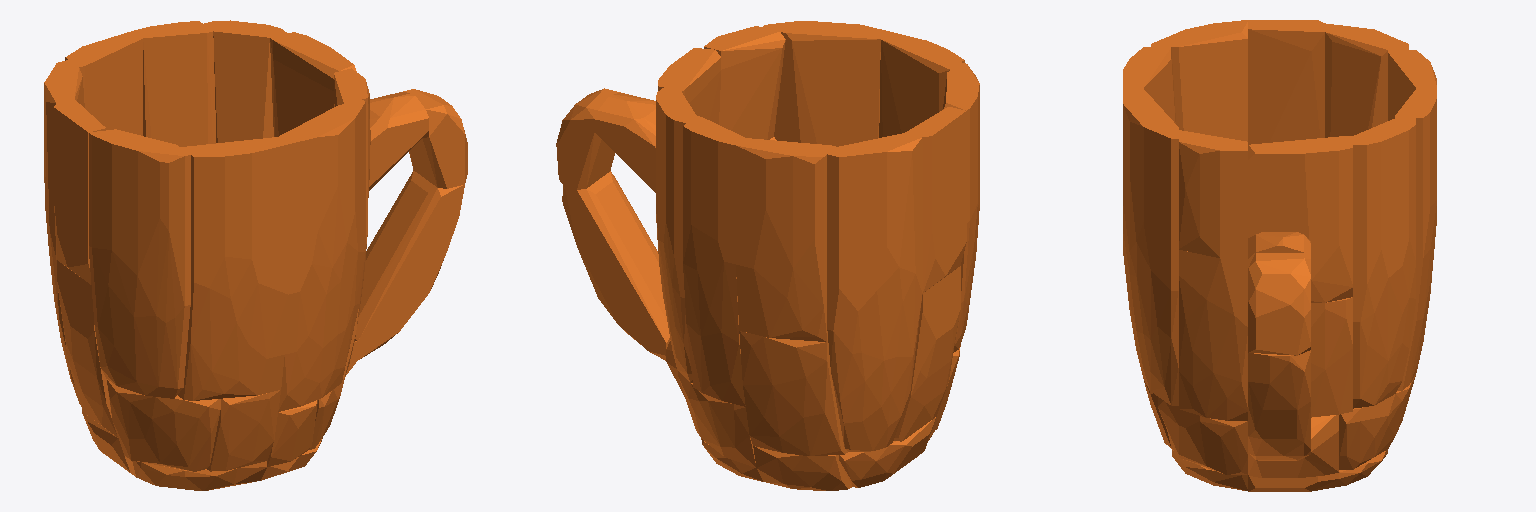
robot.urdf — mug:
<?xml version="1.0"?>
<robot name="mug">
  <link name="base">
    <inertial>
      <mass value="0.3"/>
      <inertia ixx="5e-4" ixy="0" ixz="0" iyy="5e-4" iyz="0" izz="5e-4"/>
    </inertial>
    <visual>
      <origin xyz="0 0 0" rpy="0 0 0"/>
      <geometry><mesh filename="mug_vhacd.obj"/></geometry>
      <material name="orange"><color rgba="0.9 0.5 0.2 1.0"/></material>
    </visual>
    <collision>
      <origin xyz="0 0 0" rpy="0 0 0"/>
      <geometry><mesh filename="mug_vhacd.obj"/></geometry>
    </collision>
  </link>
</robot>

--- Facts derived from the render (not from the file) ---
Views: 3 orthographic renders of the robot side by side, from view 1: azimuth 30°, elevation 25°; view 2: azimuth 150°, elevation 25°; view 3: azimuth 270°, elevation 25°.
Robot: mug — 1 links, 0 joints (none); root link base; default pose: every joint at zero.
Links seen in each view (by area): view 1: base; view 2: base; view 3: base.
Boxes of the visible links, bbox=[...] form: base: bbox=[44, 20, 467, 490]; base: bbox=[556, 21, 979, 490]; base: bbox=[1123, 20, 1436, 491].
Size in the robot's own frame: 0.1239 by 0.0871 by 0.1103 metres.
1 mesh visuals loaded from 1 distinct referenced files (1 OBJ).
